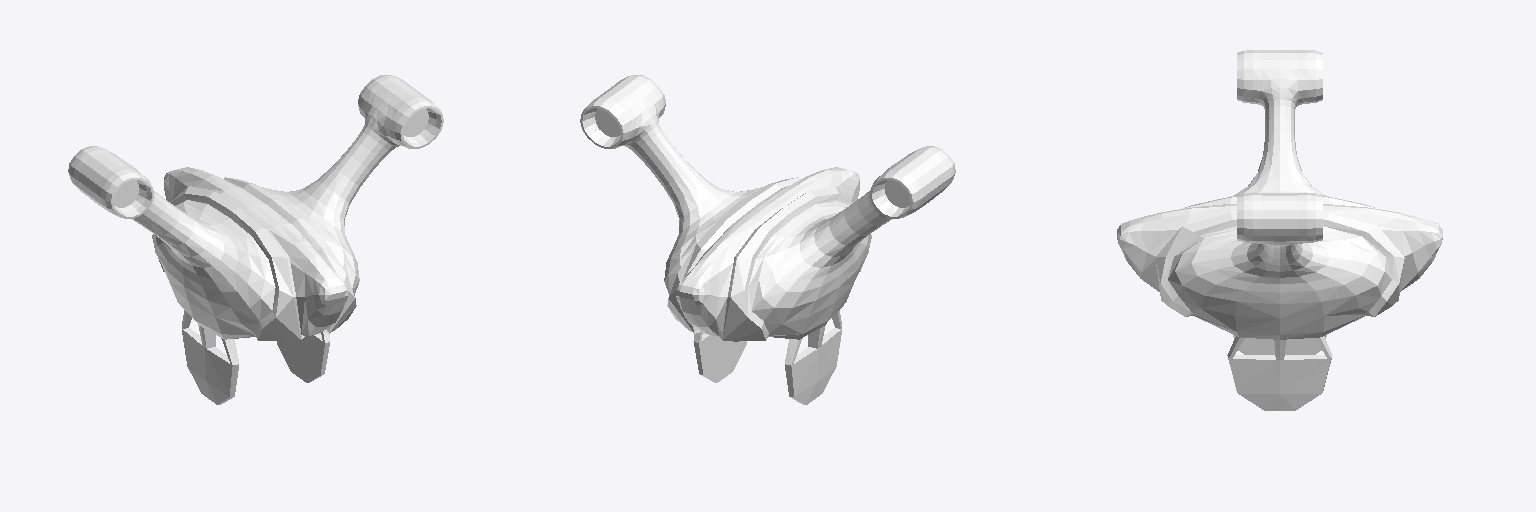
Rendered from flyer.obj.
3 views of the same model, side by side, from view 1: azimuth 30°, elevation 25°; view 2: azimuth 150°, elevation 25°; view 3: azimuth 270°, elevation 25° (orthographic).
Parts seen in each view (by area): view 1: cube1; view 2: cube1; view 3: cube1.
Part boxes in pixels (bbox=[...]): cube1: bbox=[68, 75, 443, 404]; cube1: bbox=[580, 75, 955, 404]; cube1: bbox=[1117, 50, 1442, 410].
Bounding box in the file's own units: 4.28 × 3.19 × 3.58.